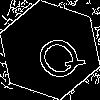Q: (25, 25, 88, 87)
